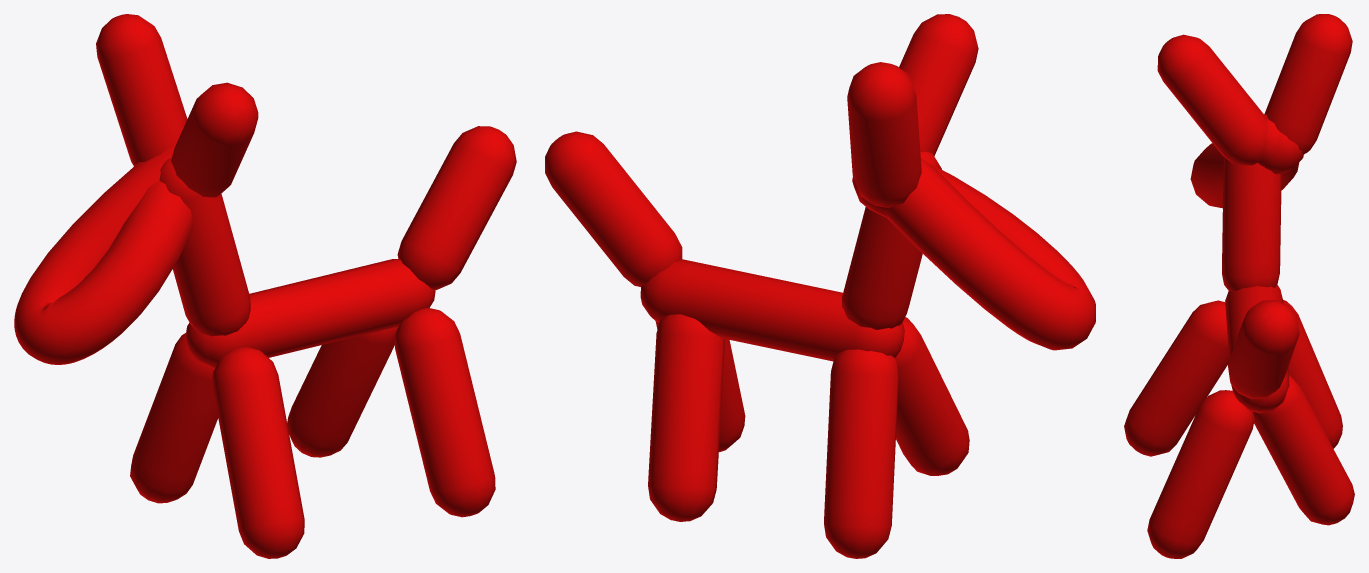
Rendered from dogMerged.fbx.
3 renders of one model, left to right at view 1: azimuth 30°, elevation 25°; view 2: azimuth 150°, elevation 25°; view 3: azimuth 270°, elevation 25°, orthographic. The views are drawn at different scales.
Parts seen in each view (by area): view 1: s.0029; view 2: s.0029; view 3: s.0029.
Boxes of the visible parts, bbox=[...] form: s.0029: bbox=[14, 14, 516, 558]; s.0029: bbox=[545, 14, 1095, 558]; s.0029: bbox=[1124, 14, 1354, 558].
Size of the model in its own units: 41.11 by 38.4 by 18.53.
